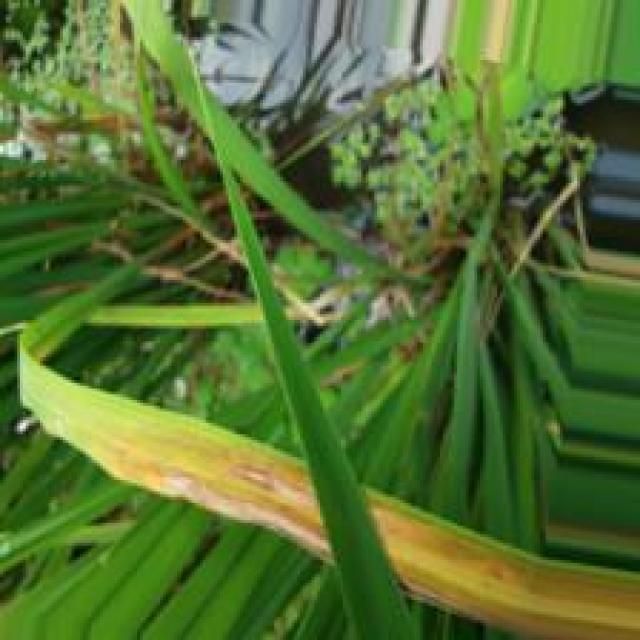Leaf_Scald: (133, 468, 332, 564), (233, 466, 317, 519)
